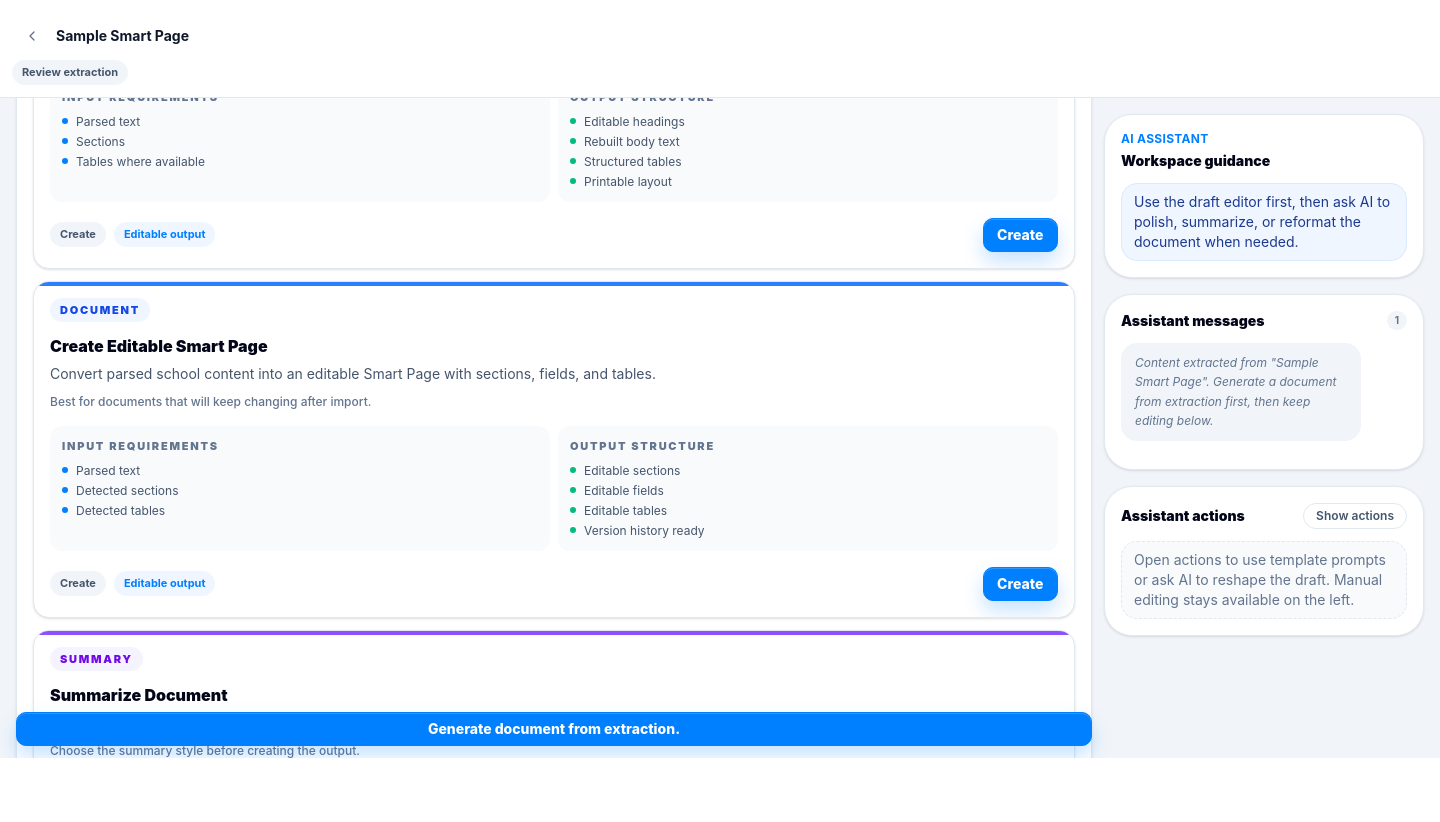
Scenario: DocumentEditorPage ? Smart Pages flow › uses the Clean & Rebuild Document template and sends the right generation prompt
The image size is (1440, 822).
(page scrolled)
Click the button with aria-label "Clean & Rebuild Document". click: (1020, 234)
box: [982,218,1058,252]
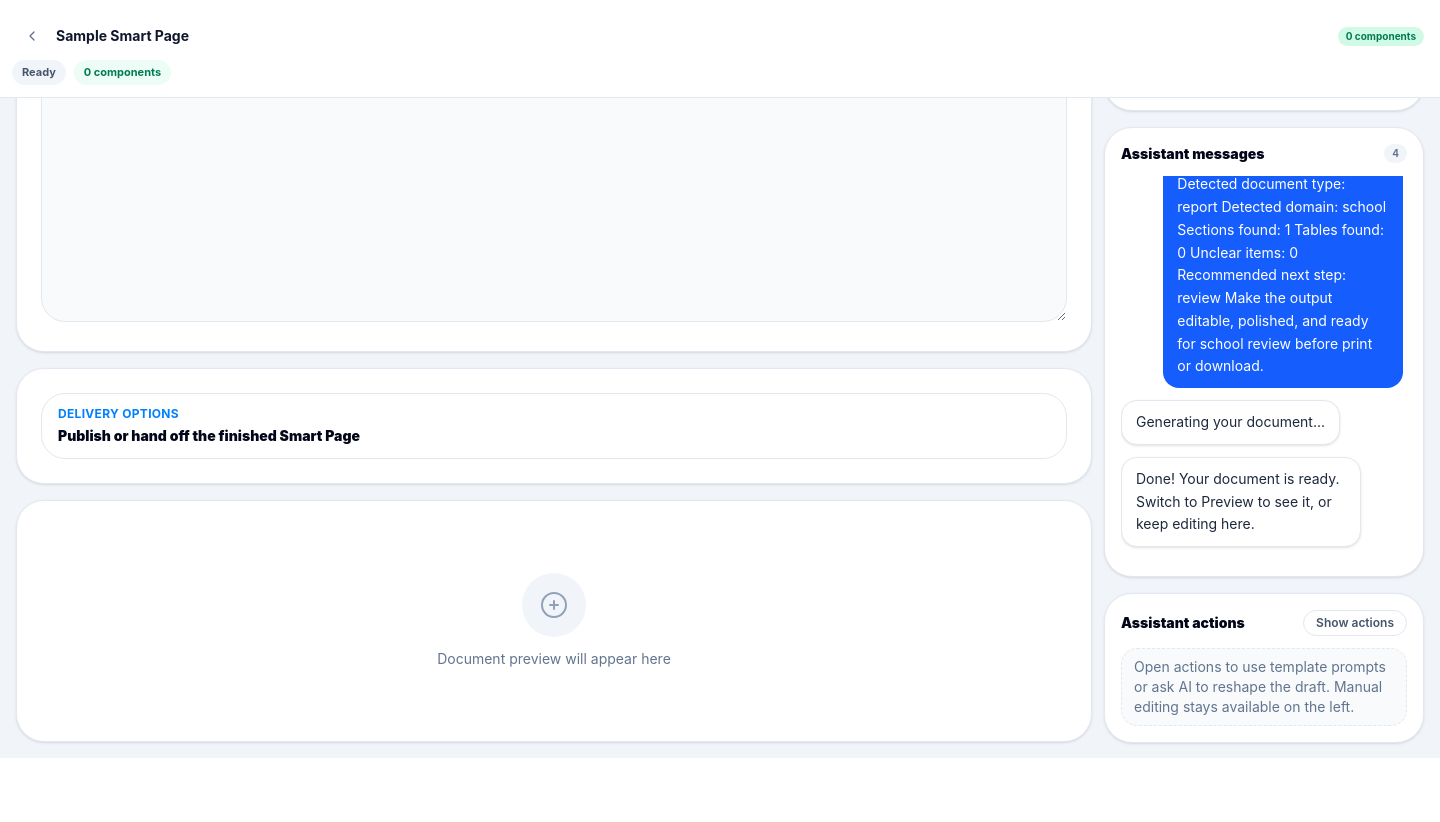
Check: the text "Done! Your document is ready" is shown, box [1136,469,1340,532]
